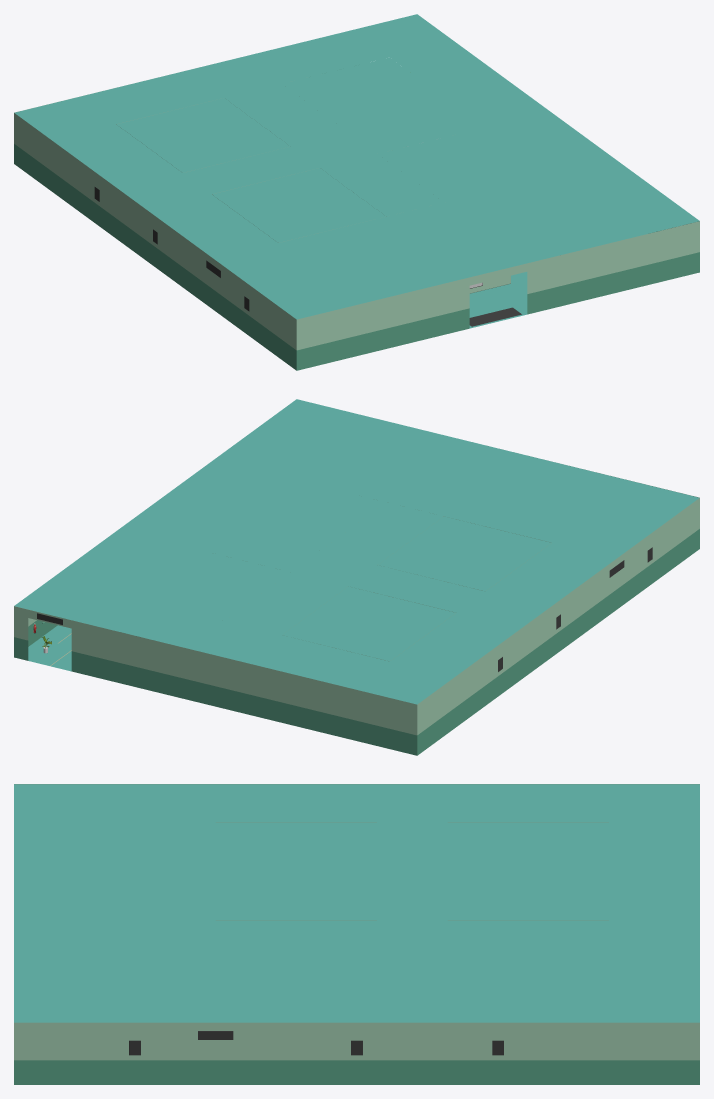
The model's file is Hospital_arte_compartido.fbx.
3 views of the same model, one above another, from view 1: azimuth 30°, elevation 25°; view 2: azimuth 150°, elevation 25°; view 3: azimuth 270°, elevation 25° (orthographic). The views are drawn at different scales.
Visible parts, largest first — view 1: Piso_Quirofano_01.001, Pared_EXT_Izquierda_3, Pared_EXT_Izquierda_1, Pared_EXT_Frente_I_3, Pared_EXT_Frente_D_3, Pared_EXT_Frente_I_1, Pared_EXT_Frente_D_1, Pared_EXT_Izquierda_3_D, Pared_EXT_Izquierda_1_D, Piso_Continuo, Pared_EXT_Frente_D_3_D, Pared_EXT_Frente_I_3_D (+3 smaller); view 2: Piso_Quirofano_01.001, Pared_EXT_Fondo_I_3, Pared_EXT_Izquierda_3, Pared_EXT_Fondo_I_1, Pared_EXT_Izquierda_1, Pared_EXT_Izquierda_3_D, Pared_EXT_Fondo_I_3_D, Pared_EXT_Izquierda_1_D, Pared_EXT_Fondo_I_1_D, Piso_Continuo, Pared_EXT_Fondo_I_0, Pared_EXT_Izquierda_0 (+1 smaller); view 3: Piso_Quirofano_01.001, Pared_EXT_Derecha_3, Pared_EXT_Derecha_1, Pared_EXT_Derecha_1_D, Pared_EXT_Derecha_3_D, Pared_EXT_Derecha_0, Pared_EXT_Derecha_2, Pared_EXT_Izquierda_3, Pared_EXT_Derecha_0_D.
Part boxes in pixels (x1=…): Piso_Quirofano_01.001: x1=14, y1=14, x2=699, y2=319; Pared_EXT_Izquierda_3: x1=14, y1=113, x2=296, y2=348; Pared_EXT_Izquierda_1: x1=14, y1=144, x2=296, y2=368; Pared_EXT_Frente_I_3: x1=296, y1=277, x2=469, y2=349; Pared_EXT_Frente_D_3: x1=527, y1=221, x2=699, y2=292; Pared_EXT_Frente_I_1: x1=296, y1=308, x2=469, y2=368; Pared_EXT_Frente_D_1: x1=527, y1=252, x2=699, y2=312; Pared_EXT_Izquierda_3_D: x1=14, y1=115, x2=295, y2=345; Pared_EXT_Izquierda_1_D: x1=14, y1=146, x2=296, y2=366; Piso_Continuo: x1=469, y1=235, x2=642, y2=328; Pared_EXT_Frente_D_3_D: x1=527, y1=222, x2=699, y2=288; Pared_EXT_Frente_I_3_D: x1=297, y1=279, x2=469, y2=343; Piso_Quirofano_01.001: x1=14, y1=399, x2=699, y2=704; Pared_EXT_Fondo_I_3: x1=71, y1=620, x2=417, y2=734; Pared_EXT_Izquierda_3: x1=417, y1=498, x2=699, y2=733; Pared_EXT_Fondo_I_1: x1=71, y1=651, x2=417, y2=753; Pared_EXT_Izquierda_1: x1=417, y1=529, x2=699, y2=753; Pared_EXT_Izquierda_3_D: x1=417, y1=498, x2=699, y2=727; Pared_EXT_Fondo_I_3_D: x1=71, y1=621, x2=417, y2=733; Pared_EXT_Izquierda_1_D: x1=417, y1=529, x2=699, y2=749; Pared_EXT_Fondo_I_1_D: x1=71, y1=651, x2=416, y2=752; Piso_Continuo: x1=28, y1=620, x2=71, y2=671; Pared_EXT_Fondo_I_0: x1=71, y1=670, x2=417, y2=755; Pared_EXT_Izquierda_0: x1=417, y1=547, x2=699, y2=755; Piso_Quirofano_01.001: x1=14, y1=784, x2=699, y2=1022; Pared_EXT_Derecha_3: x1=14, y1=1022, x2=699, y2=1058; Pared_EXT_Derecha_1: x1=14, y1=1060, x2=699, y2=1082; Pared_EXT_Derecha_1_D: x1=14, y1=1060, x2=699, y2=1082; Pared_EXT_Derecha_3_D: x1=14, y1=1022, x2=698, y2=1058; Pared_EXT_Derecha_0: x1=14, y1=1082, x2=699, y2=1084; Pared_EXT_Derecha_2: x1=14, y1=1059, x2=699, y2=1060; Pared_EXT_Izquierda_3: x1=14, y1=784, x2=699, y2=784; Pared_EXT_Derecha_0_D: x1=14, y1=1082, x2=697, y2=1084.
Bounding box in the file's own units: 2801 × 341 × 3400.
Materials: 31 (3 with a texture image).
